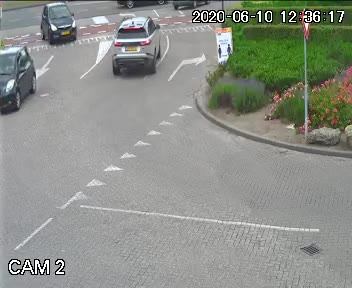car: (107, 18, 160, 83), (0, 43, 46, 114), (39, 0, 81, 49)
